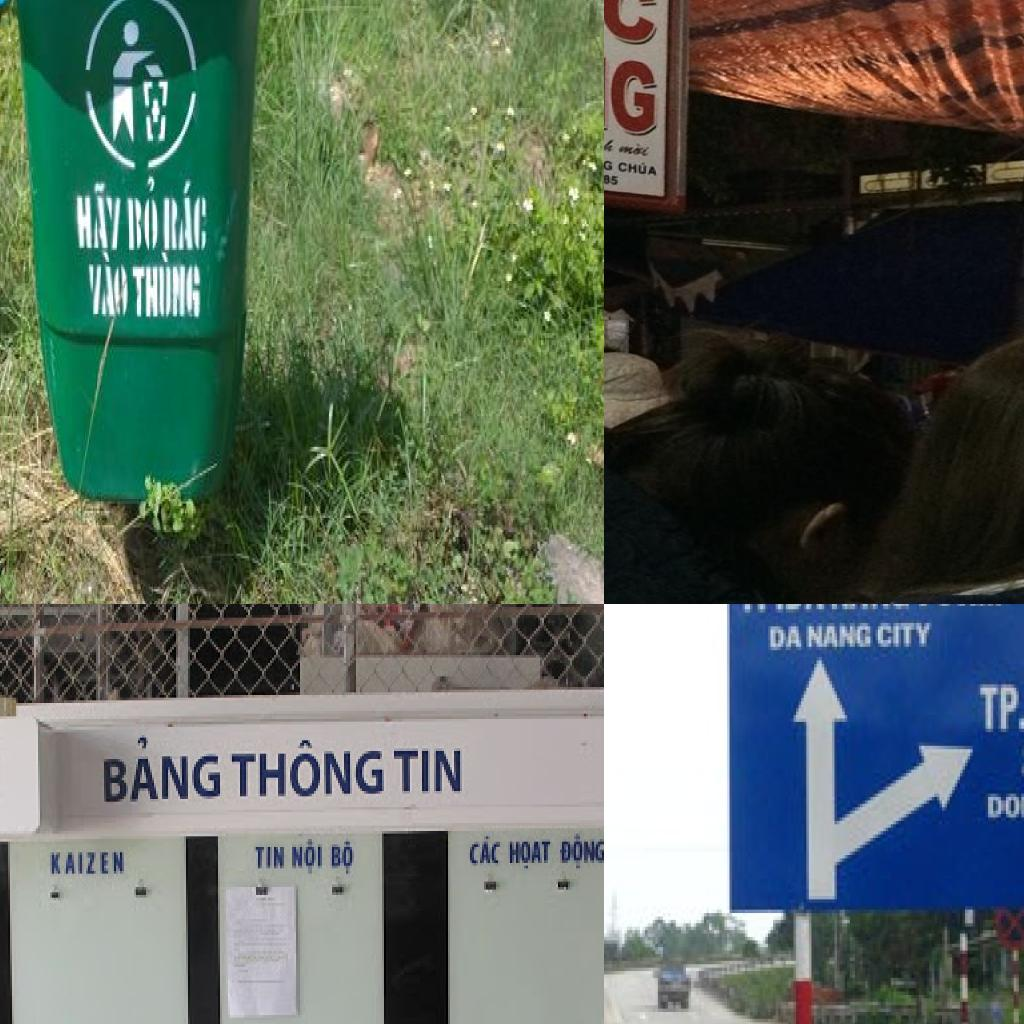text: (228, 732, 388, 802), (100, 730, 226, 810), (604, 13, 658, 140), (72, 176, 128, 254), (388, 740, 466, 796), (161, 174, 212, 252), (86, 255, 132, 321), (126, 174, 161, 257), (978, 680, 1024, 735), (50, 850, 128, 879), (806, 623, 873, 654), (876, 620, 934, 654), (558, 831, 604, 873), (288, 836, 328, 882), (508, 839, 554, 874), (468, 834, 504, 871), (330, 836, 358, 882), (766, 623, 806, 654), (985, 793, 1024, 824), (252, 844, 286, 874), (618, 158, 658, 177), (734, 604, 785, 616), (618, 141, 653, 158), (604, 132, 618, 153), (604, 153, 614, 172)
